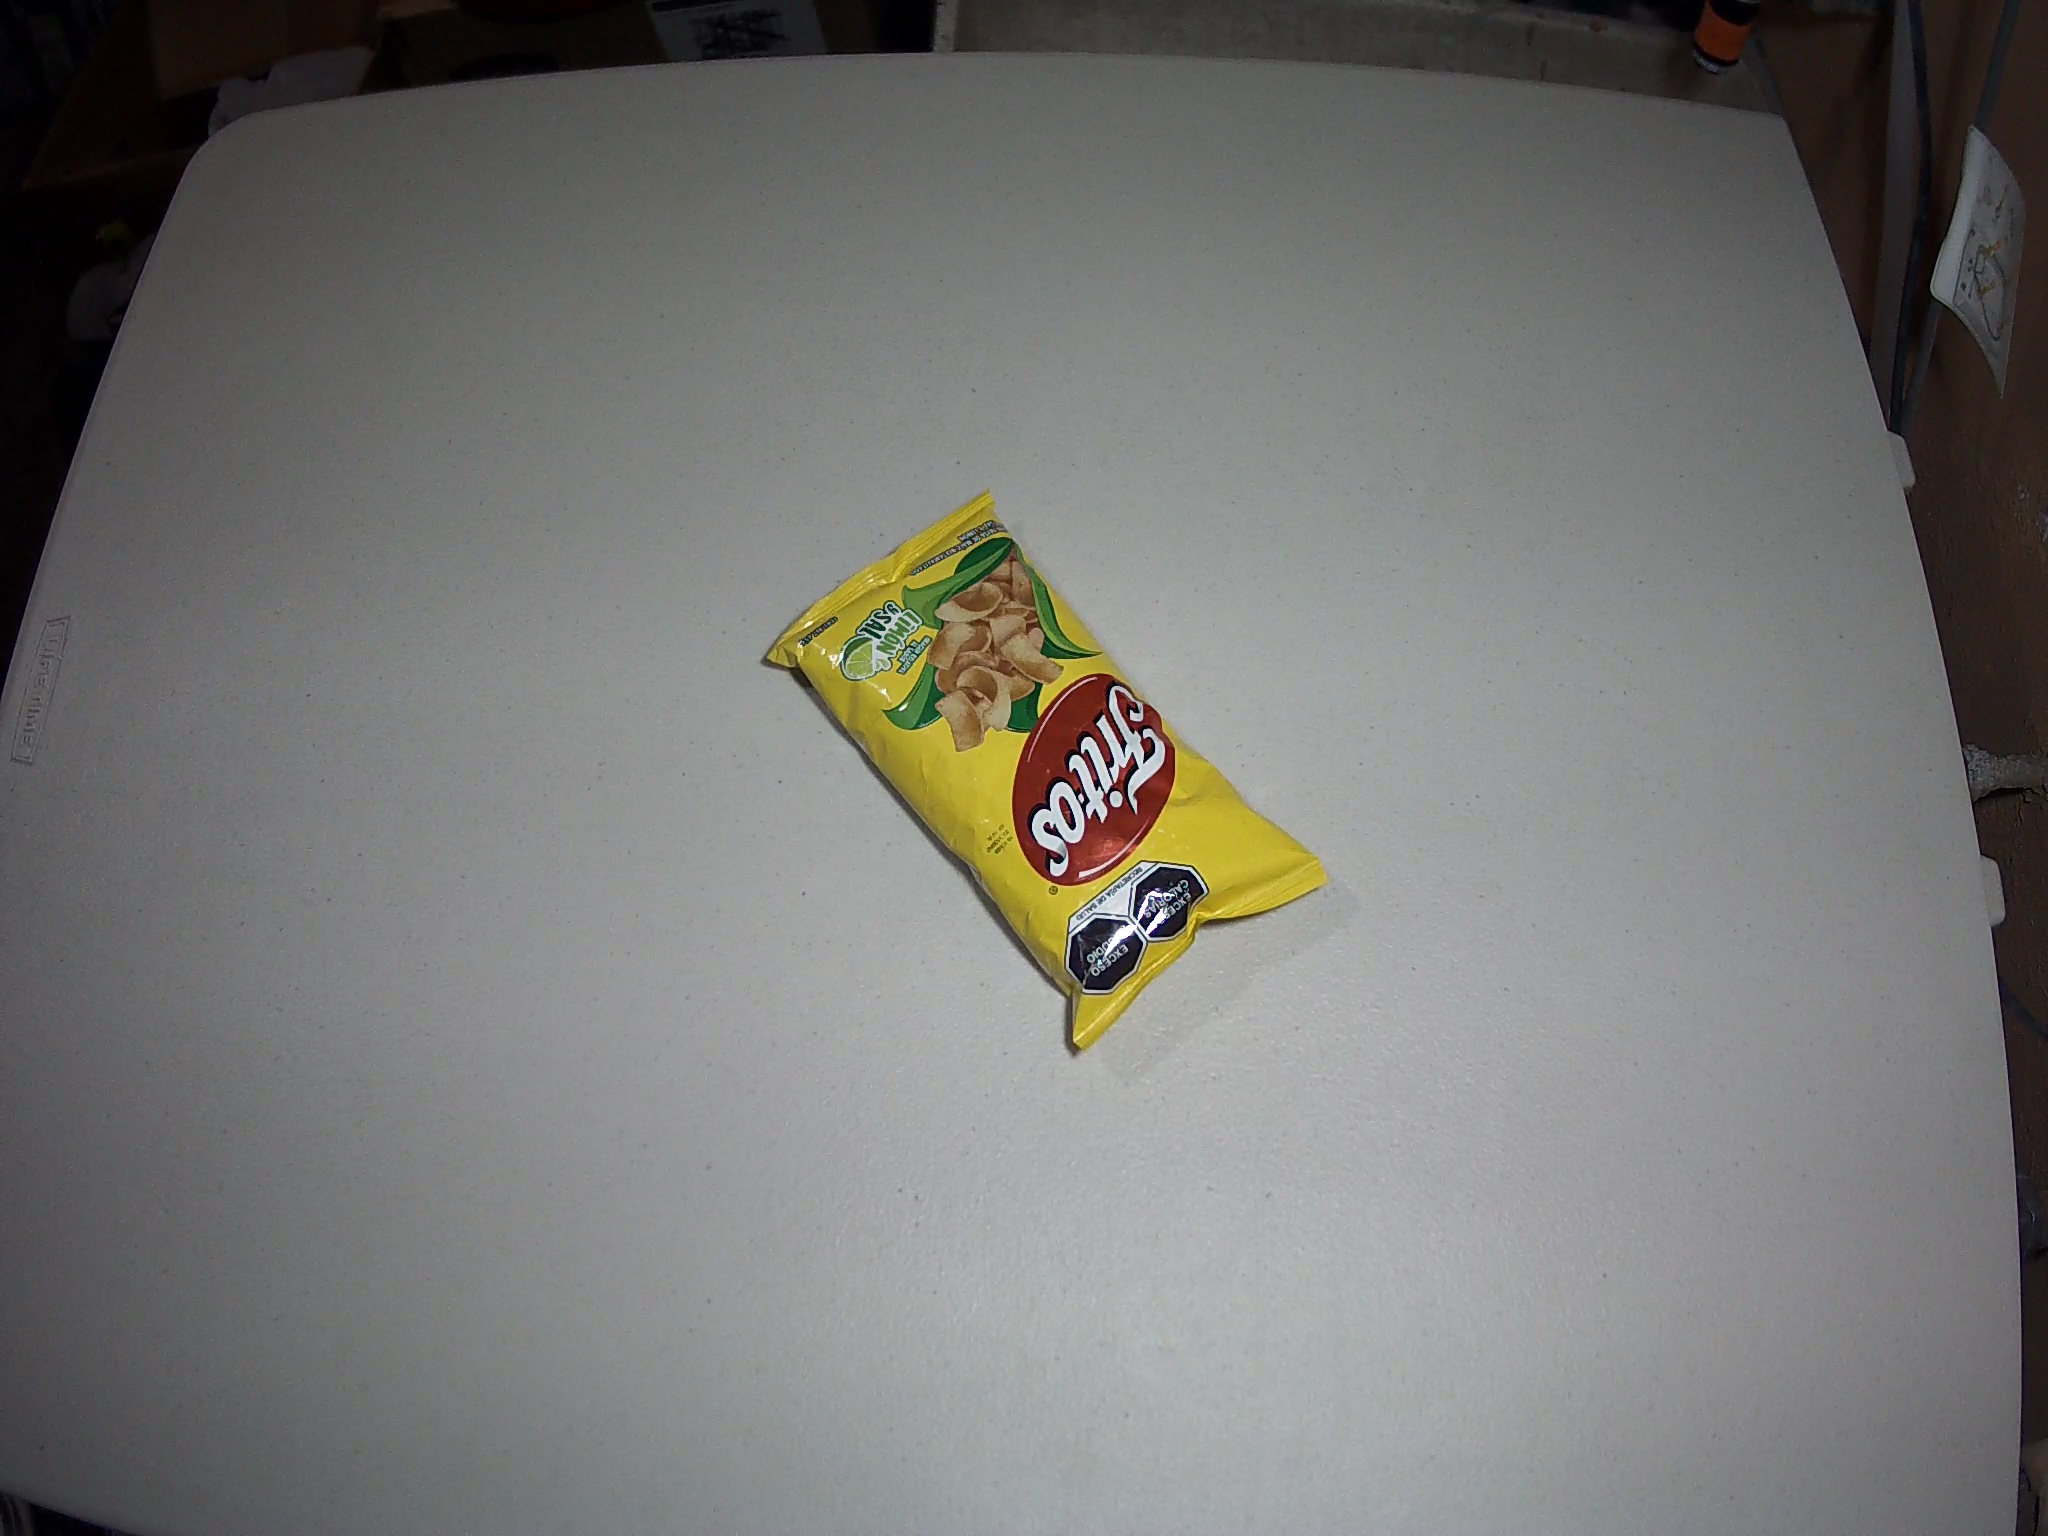FritosSalLimon_65_F: (763, 486, 1334, 1054)
